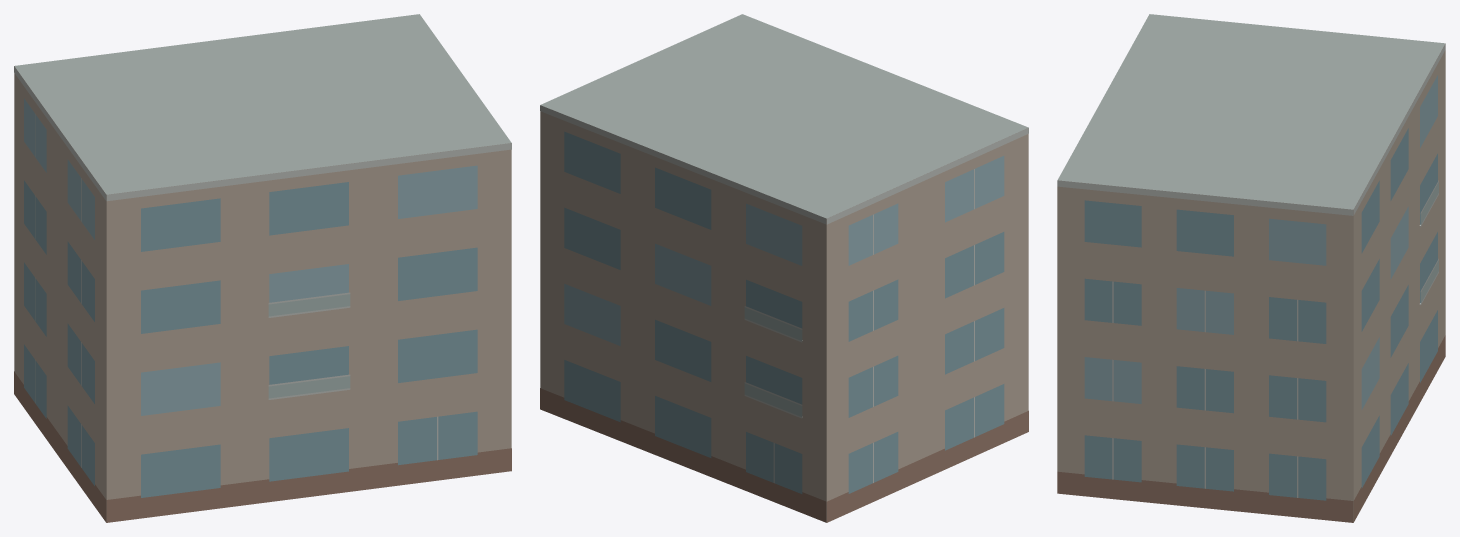
The model's file is residential-80a403c8-4345-4490-b475-5241b0b6adf7.glb.
3 views of the same model, side by side, from view 1: azimuth 30°, elevation 25°; view 2: azimuth 150°, elevation 25°; view 3: azimuth 270°, elevation 25° (orthographic). The views are drawn at different scales.
Parts seen in each view (by area): view 1: residential-80a403c8-4345-4490-b475-5241b0b6adf7.tmp; view 2: residential-80a403c8-4345-4490-b475-5241b0b6adf7.tmp; view 3: residential-80a403c8-4345-4490-b475-5241b0b6adf7.tmp.
Part boxes in pixels (bbox=[...]): residential-80a403c8-4345-4490-b475-5241b0b6adf7.tmp: bbox=[14, 14, 511, 522]; residential-80a403c8-4345-4490-b475-5241b0b6adf7.tmp: bbox=[540, 14, 1028, 522]; residential-80a403c8-4345-4490-b475-5241b0b6adf7.tmp: bbox=[1057, 14, 1445, 522].
Bounding box in the file's own units: 16.36 × 12.2 × 13.72.
